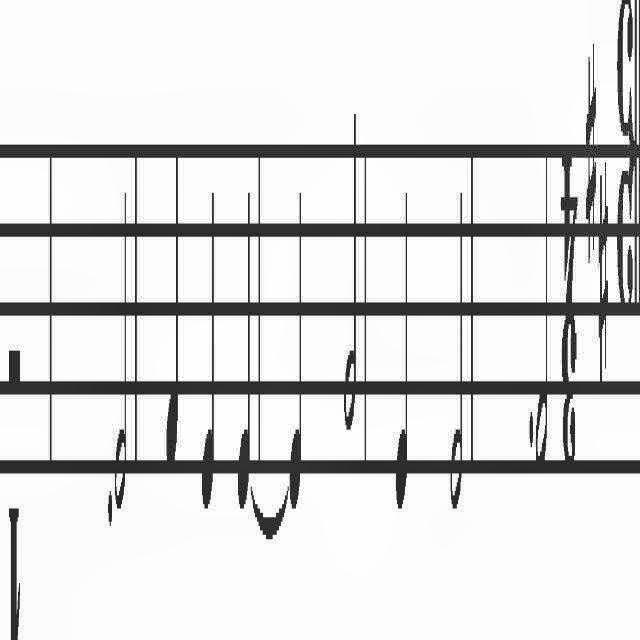Diez: (584, 38, 598, 262), (598, 161, 610, 389)
Half-note: (448, 169, 464, 523), (342, 98, 358, 446), (534, 142, 550, 474), (113, 181, 127, 524)
Quarter-note: (394, 180, 410, 528), (200, 175, 216, 518), (288, 177, 304, 511), (237, 180, 251, 518), (165, 150, 179, 482)
